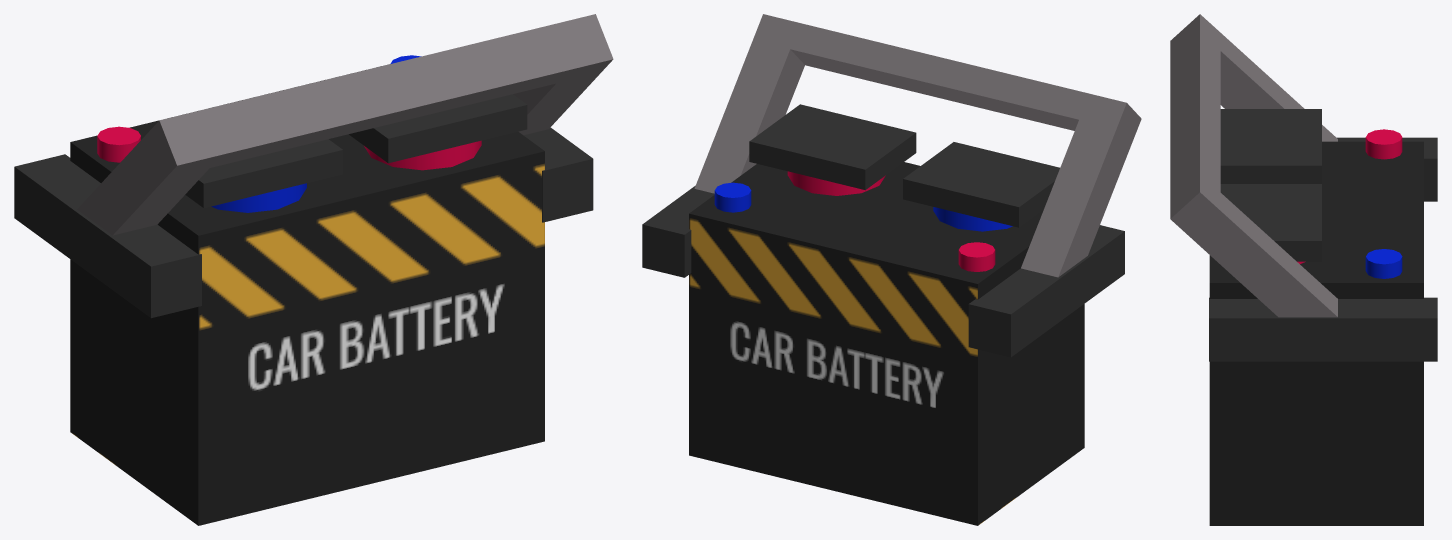
File: Battery.fbx
The picture shows the model from 3 angles, left to right: view 1: azimuth 30°, elevation 25°; view 2: azimuth 150°, elevation 25°; view 3: azimuth 270°, elevation 25°; orthographic projection. The views are drawn at different scales.
Parts seen in each view (by area): view 1: Battery; view 2: Battery; view 3: Battery.
Boxes of the visible parts, box(x1,y1,x2,y2) form: Battery: box(14, 14, 613, 525); Battery: box(642, 14, 1141, 525); Battery: box(1170, 14, 1437, 525).
Bounding box in the file's own units: 79.33 × 72.09 × 49.63.
Materials: 5 (1 with a texture image).
